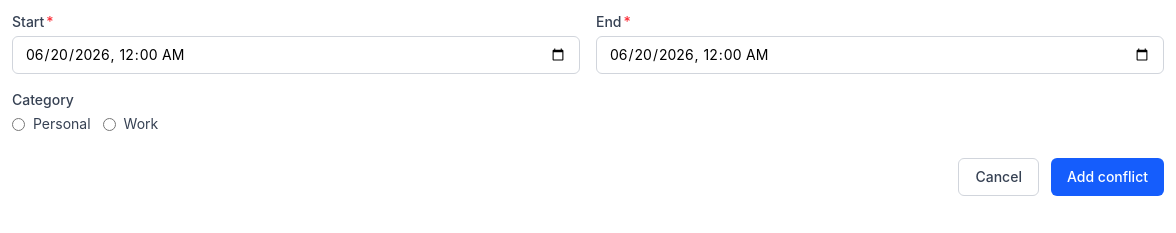
it: ConflictForm — time validation › shows an error when end time is manually set before start time
Replace the text in the field below "Start" with "2026-06-20T19:00". click: (296, 55)
box: x1=12 y1=36 x2=580 y2=74
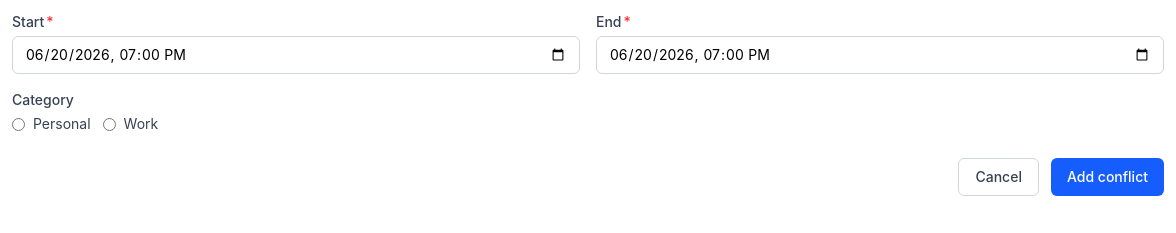
Replace the text in the field below "End" with "2026-06-20T18:00". click: (880, 55)
box: x1=596 y1=36 x2=1164 y2=74
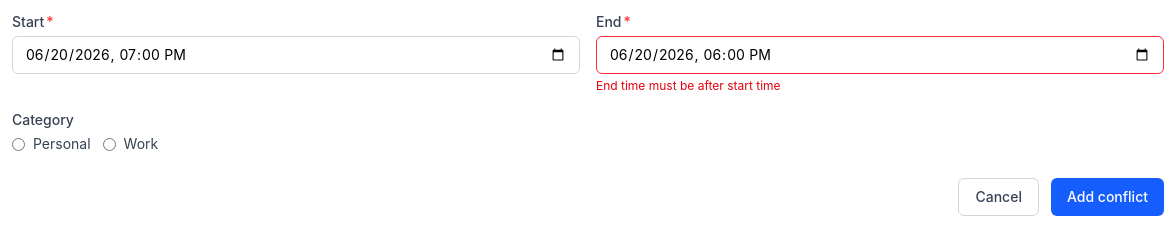
expect the text "End time must be after start time" is shown: met, box x1=596 y1=78 x2=781 y2=93
